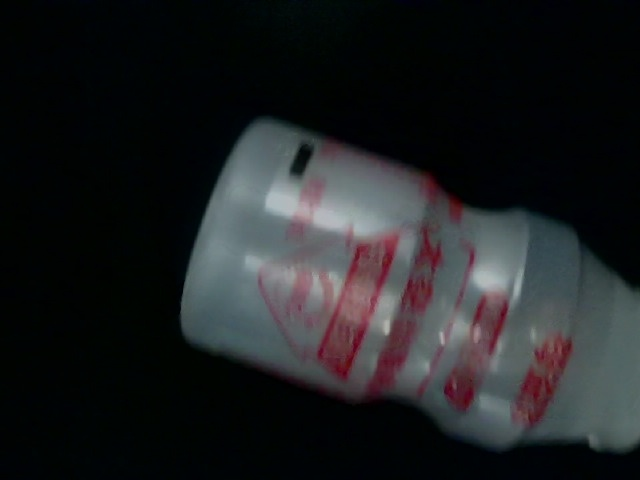CYLJ: (249, 206, 614, 446)
